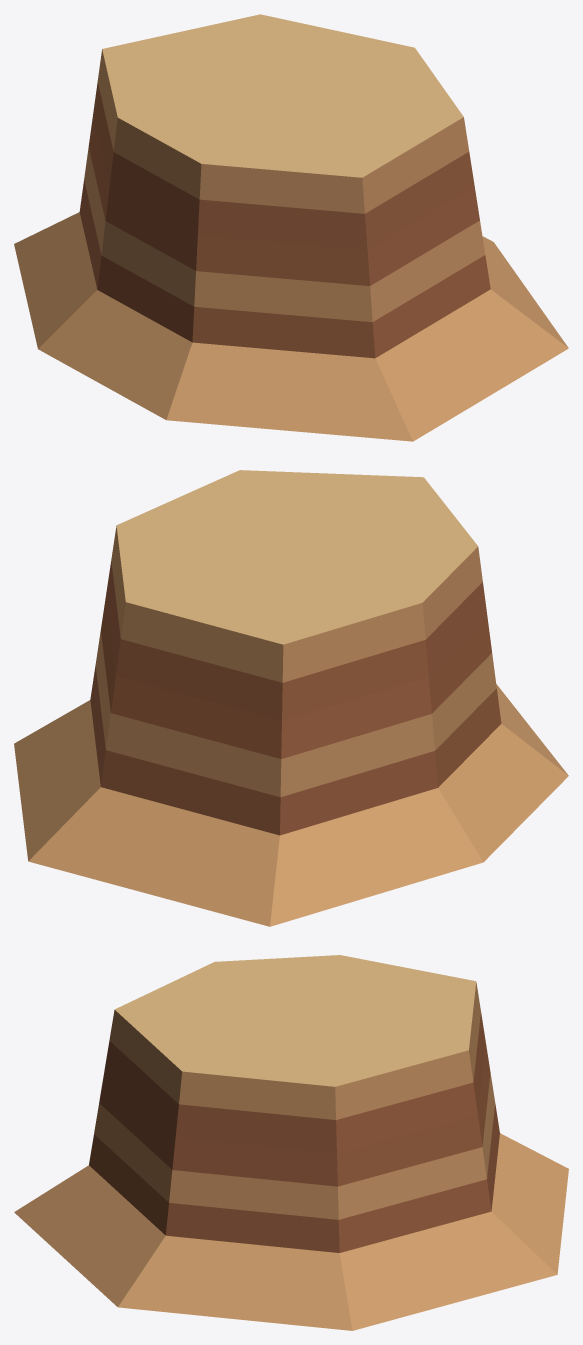
The model's file is rock_stack.fbx.
3 renders of one model, top to bottom at view 1: azimuth 30°, elevation 25°; view 2: azimuth 150°, elevation 25°; view 3: azimuth 270°, elevation 25°, orthographic. The views are drawn at different scales.
Parts seen in each view (by area): view 1: rock_stack; view 2: rock_stack; view 3: rock_stack.
Boxes of the visible parts, x1,y1,x2,y2 form: rock_stack: (14,14,568,441); rock_stack: (14,470,568,926); rock_stack: (14,955,568,1330).
Bounding box in the file's own units: 0.9971 × 0.47 × 1.16.
